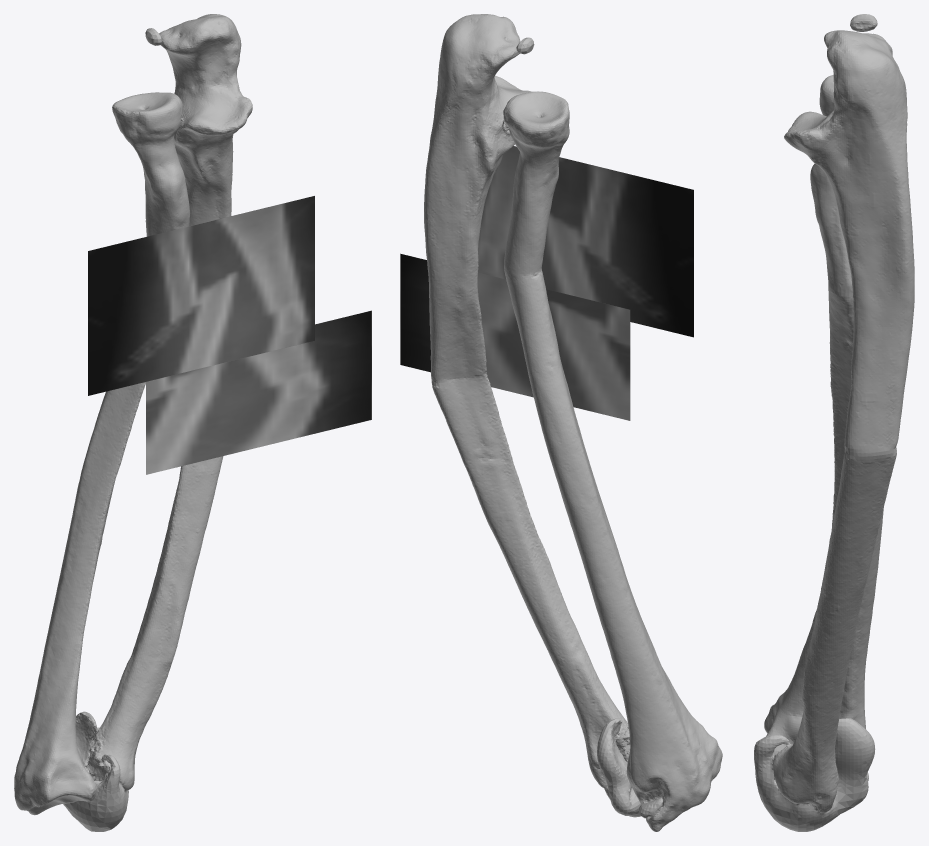
File: fractured_103e1903-f74c-4ad1-8c10-2b74dee8de7a.glb
3 renders of one model, left to right at view 1: azimuth 30°, elevation 25°; view 2: azimuth 150°, elevation 25°; view 3: azimuth 270°, elevation 25°, orthographic. The views are drawn at different scales.
Parts seen in each view (by area): view 1: world; view 2: world; view 3: world.
Boxes of the visible parts, x1,y1,x2,y2 form: world: (14,14,371,831); world: (400,14,722,831); world: (754,14,914,831).
Size of the model in its own units: 0.4458 by 0.9932 by 0.1697.
Materials: 2 (2 with a texture image).
